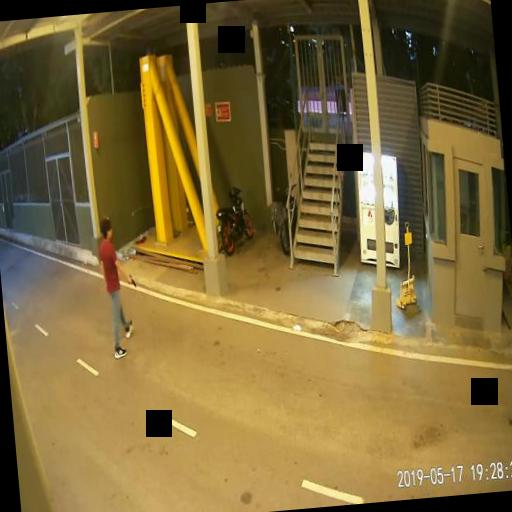Handgun: (125, 270, 135, 288)
